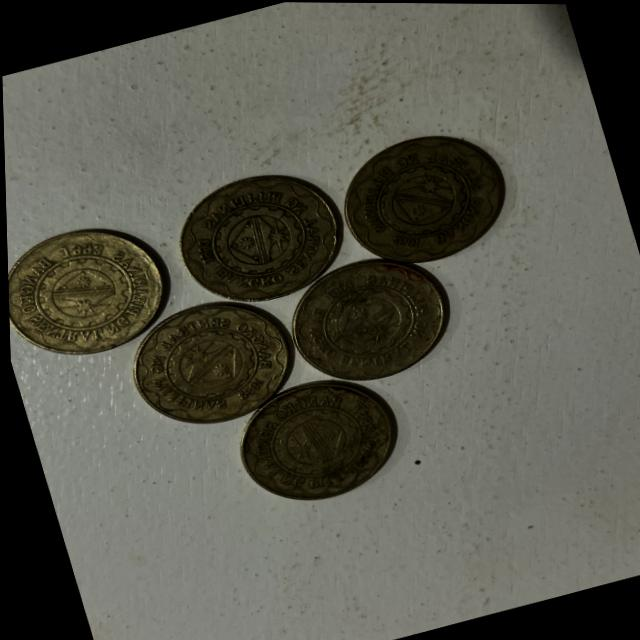5_Old_Back: (163, 155, 347, 319), (329, 120, 519, 277), (113, 288, 302, 436), (218, 374, 409, 517), (5, 211, 170, 370), (286, 255, 459, 390)
